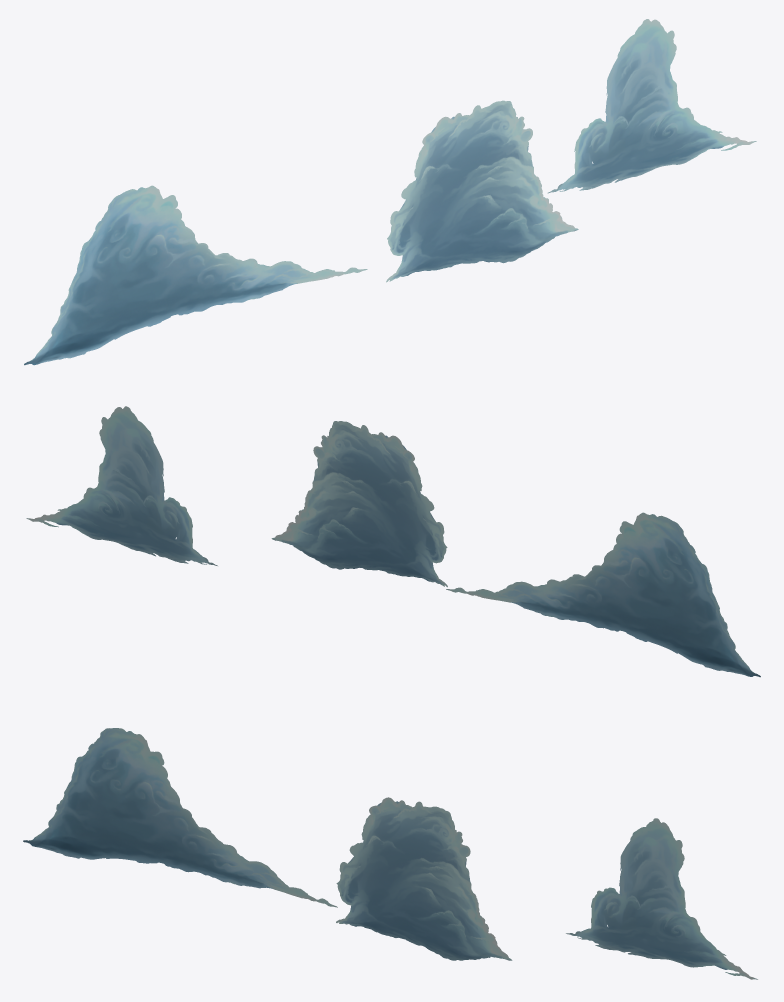
Rendered from Level Clouds.FBX.
3 views of the same model, one above another, from view 1: azimuth 30°, elevation 25°; view 2: azimuth 150°, elevation 25°; view 3: azimuth 330°, elevation 25° (orthographic). The views are drawn at different scales.
Parts seen in each view (by area): view 1: Level Cloud 1, Level Cloud 2, Level Cloud 3; view 2: Level Cloud 1, Level Cloud 2, Level Cloud 3; view 3: Level Cloud 1, Level Cloud 2, Level Cloud 3.
Boxes of the visible parts, x1=… form: Level Cloud 1: x1=24, y1=185, x2=367, y2=365; Level Cloud 2: x1=386, y1=100, x2=578, y2=282; Level Cloud 3: x1=547, y1=19, x2=756, y2=193; Level Cloud 1: x1=446, y1=512, x2=760, y2=677; Level Cloud 2: x1=271, y1=421, x2=447, y2=587; Level Cloud 3: x1=26, y1=406, x2=217, y2=565; Level Cloud 1: x1=23, y1=728, x2=337, y2=907; Level Cloud 2: x1=336, y1=797, x2=512, y2=960; Level Cloud 3: x1=566, y1=818, x2=757, y2=979.
Size of the model in its own units: 7542 by 743 by 1651.
Materials: 1 (1 with a texture image).
